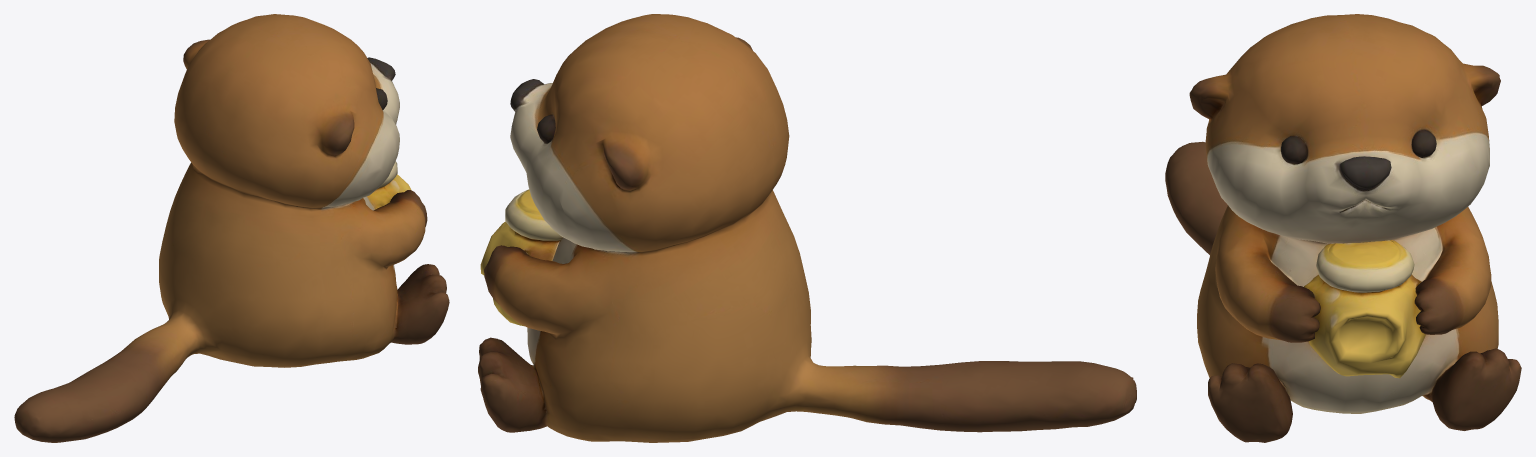
File: mascot.glb
3 renders of one model, left to right at view 1: azimuth 30°, elevation 25°; view 2: azimuth 150°, elevation 25°; view 3: azimuth 270°, elevation 25°, orthographic. The views are drawn at different scales.
Visible parts, largest first — view 1: tripo_node_18e34b4c-7eea-45d6-a351-7d849e0ff827; view 2: tripo_node_18e34b4c-7eea-45d6-a351-7d849e0ff827; view 3: tripo_node_18e34b4c-7eea-45d6-a351-7d849e0ff827.
Part boxes in pixels (bbox=[...]): tripo_node_18e34b4c-7eea-45d6-a351-7d849e0ff827: bbox=[14, 14, 449, 442]; tripo_node_18e34b4c-7eea-45d6-a351-7d849e0ff827: bbox=[478, 14, 1136, 442]; tripo_node_18e34b4c-7eea-45d6-a351-7d849e0ff827: bbox=[1165, 14, 1521, 442].
Bounding box in the file's own units: 0.998 × 0.6426 × 0.5723.
Materials: 1 (1 with a texture image).
